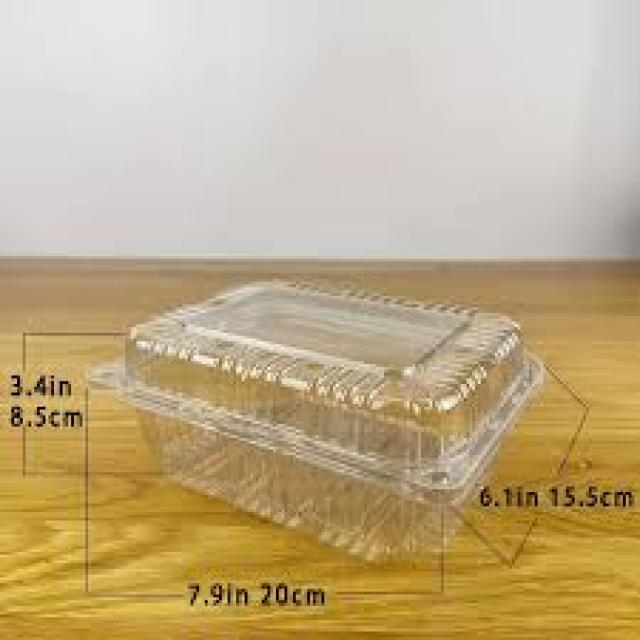disposable: (108, 270, 560, 578)
